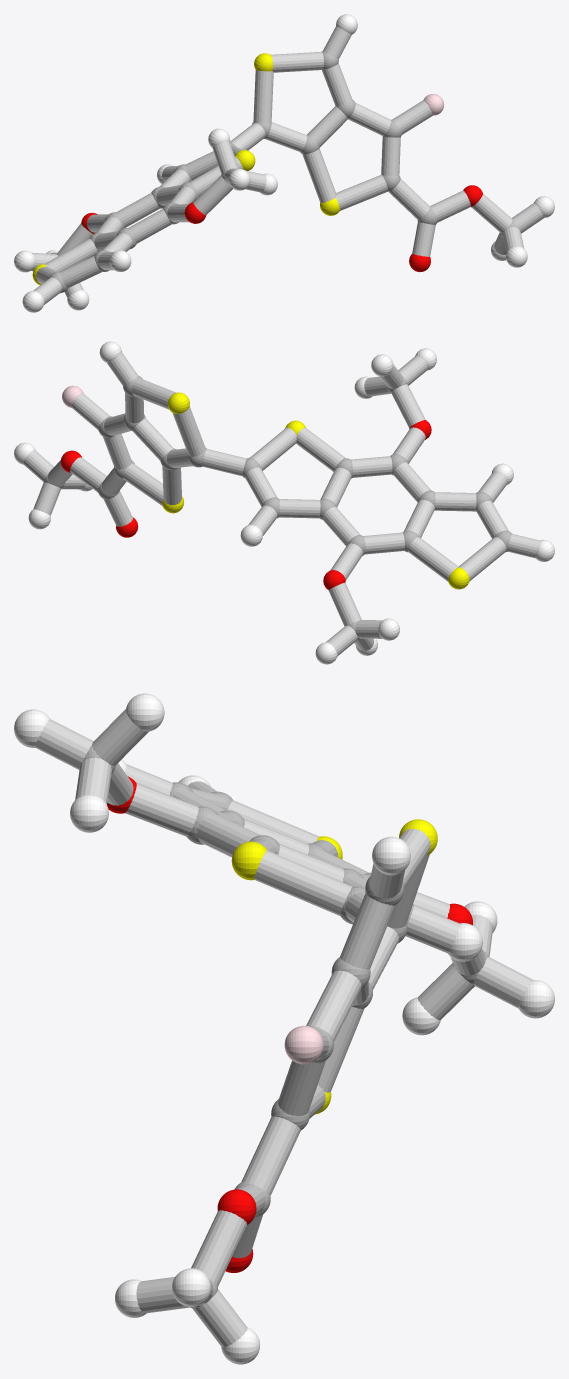
Rendered from Dimethoxy_Benzodithiophene_Phi_30_Theta_90_Methylcarbonyl_3_Fluoro_Thienothiophene.glb.
3 views of the same model, one above another, from view 1: azimuth 30°, elevation 25°; view 2: azimuth 150°, elevation 25°; view 3: azimuth 270°, elevation 25° (orthographic). The views are drawn at different scales.
Parts seen in each view (by area): view 1: grp15205, grp8689, grp1, grp13395, grp7241; view 2: grp15205, grp8689, grp1, grp7241, grp13395; view 3: grp15205, grp8689, grp1, grp13395, grp7241, grp14843.
Boxes of the visible parts, x1=… form: grp15205: x1=31, y1=26, x2=544, y2=304; grp8689: x1=14, y1=14, x2=554, y2=312; grp1: x1=49, y1=51, x2=518, y2=293; grp13395: x1=81, y1=185, x2=482, y2=272; grp7241: x1=32, y1=53, x2=339, y2=285; grp15205: x1=23, y1=353, x2=539, y2=656; grp8689: x1=14, y1=341, x2=554, y2=664; grp1: x1=44, y1=375, x2=511, y2=640; grp7241: x1=162, y1=392, x2=469, y2=589; grp13395: x1=60, y1=420, x2=431, y2=589; grp15205: x1=35, y1=709, x2=532, y2=1347; grp8689: x1=14, y1=693, x2=554, y2=1364; grp1: x1=83, y1=744, x2=488, y2=1308; grp13395: x1=107, y1=776, x2=472, y2=1272; grp7241: x1=231, y1=819, x2=437, y2=1114; grp14843: x1=284, y1=1025, x2=323, y2=1064.
Size of the model in its own units: 16.65 by 7.25 by 8.32.
